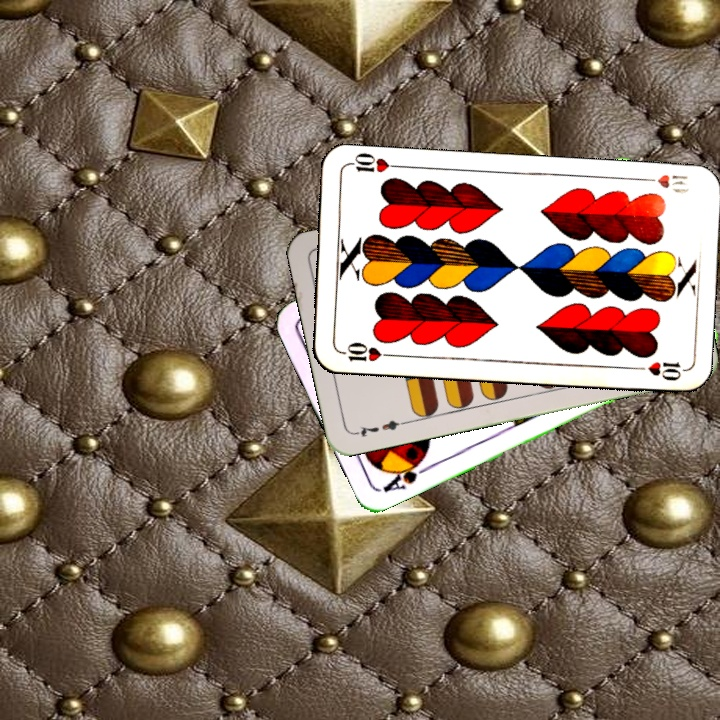E7: (350, 416, 409, 440)
H10: (336, 338, 395, 364), (636, 170, 691, 197)
SA: (378, 453, 433, 495)
